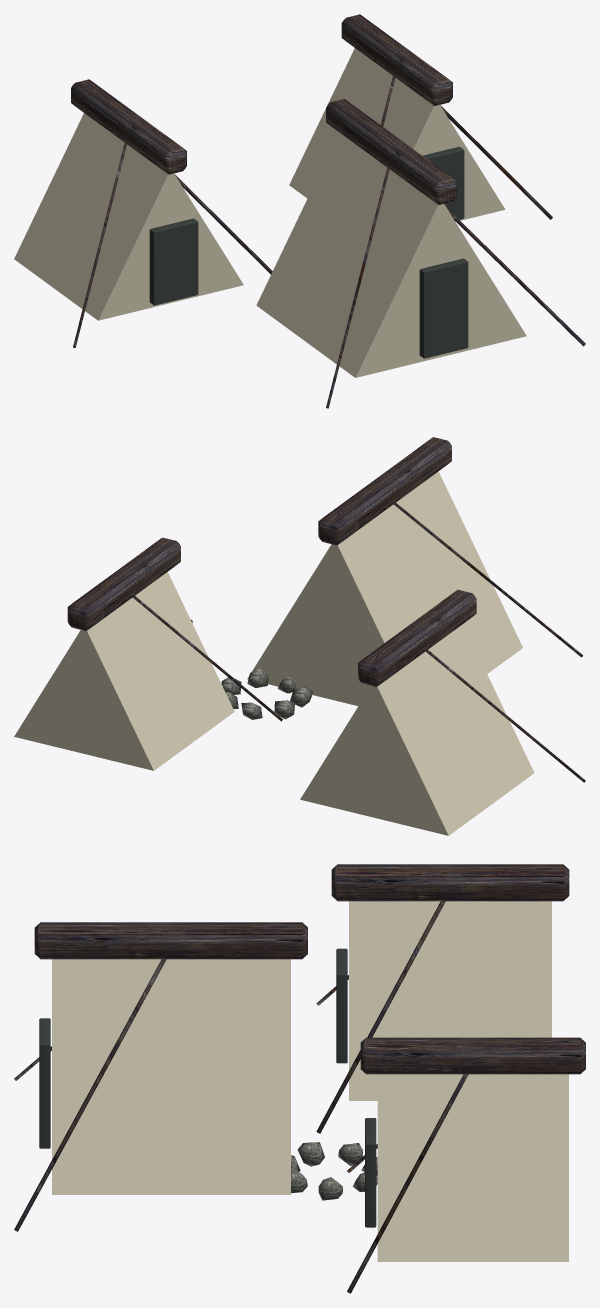
The model's file is env-site-refugeeCamp-mobile.glb.
The picture shows the model from 3 angles, top to bottom: view 1: azimuth 30°, elevation 25°; view 2: azimuth 150°, elevation 25°; view 3: azimuth 270°, elevation 25°; orthographic projection. The views are drawn at different scales.
Parts seen in each view (by area): view 1: site refugeeCamp · authored textured miniature; view 2: site refugeeCamp · authored textured miniature; view 3: site refugeeCamp · authored textured miniature.
Boxes of the visible parts, x1=… form: site refugeeCamp · authored textured miniature: x1=14, y1=14, x2=585, y2=408; site refugeeCamp · authored textured miniature: x1=14, y1=437, x2=585, y2=835; site refugeeCamp · authored textured miniature: x1=14, y1=864, x2=585, y2=1293.
Bounding box in the file's own units: 1.21 × 0.445 × 1.
Materials: 4 (2 with a texture image).
